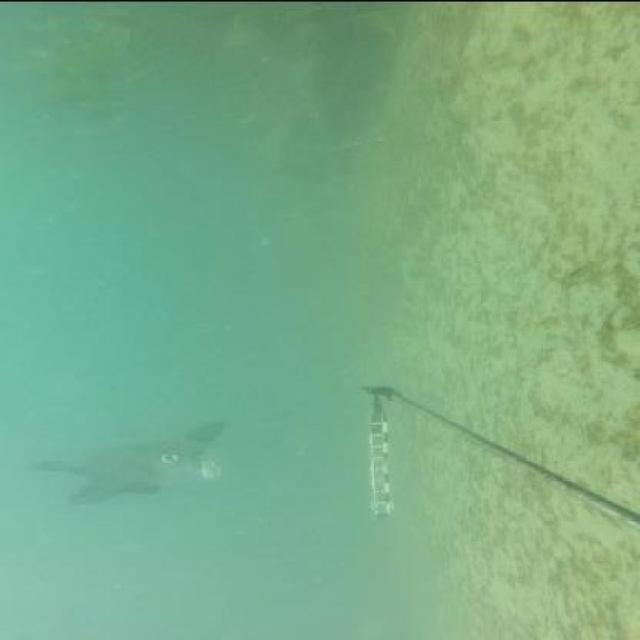acanthopagrus_palmaris: (29, 416, 237, 504)
